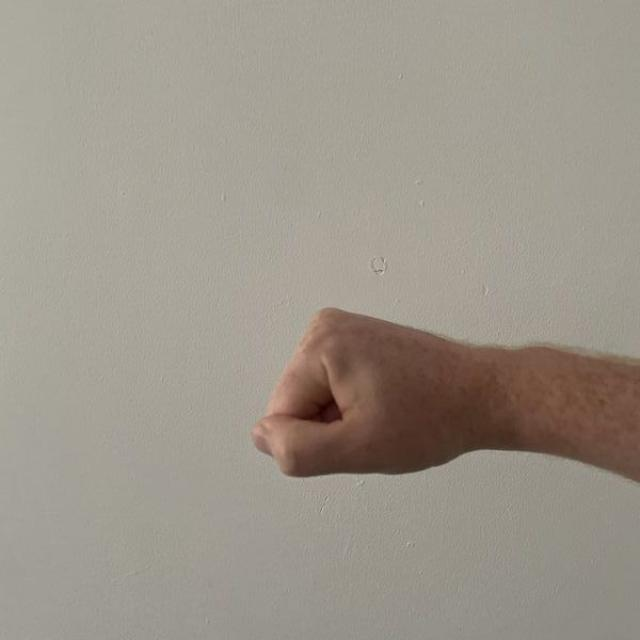rock: (246, 300, 534, 486)
